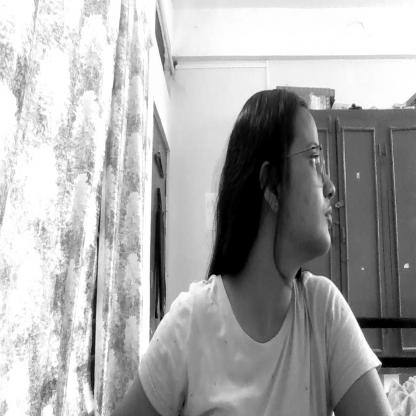Distracted: (234, 85, 342, 274)
